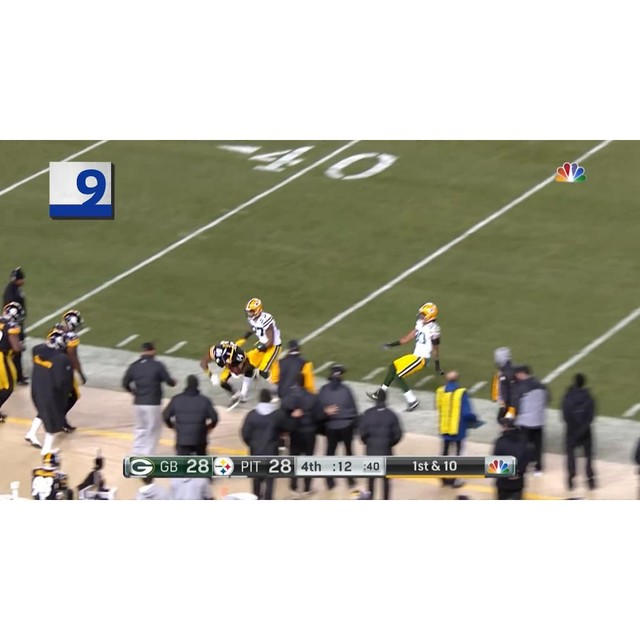american-football-player: (371, 302, 448, 409), (238, 299, 285, 397)
